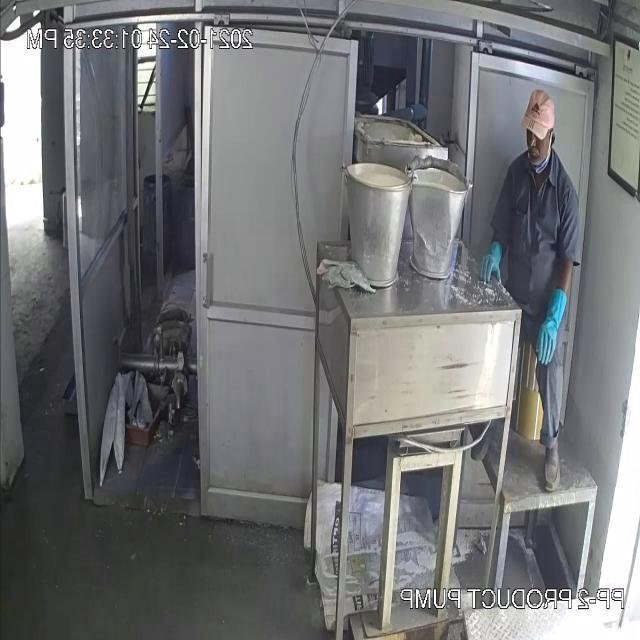face_nomask: (526, 123, 549, 164)
hand_glove: (531, 315, 568, 367), (474, 249, 513, 287)
head_nohelmet: (518, 88, 557, 138)
person: (481, 88, 584, 499)
shoes: (535, 438, 566, 495)
